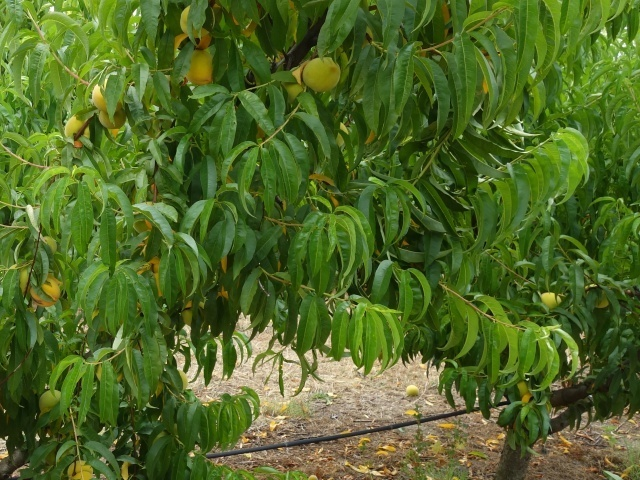peach: (300, 54, 344, 94), (184, 48, 219, 91), (88, 81, 123, 117), (176, 2, 211, 38), (28, 274, 63, 309), (61, 111, 95, 143), (35, 385, 66, 419), (95, 103, 130, 133), (64, 454, 96, 479), (536, 286, 566, 312)
